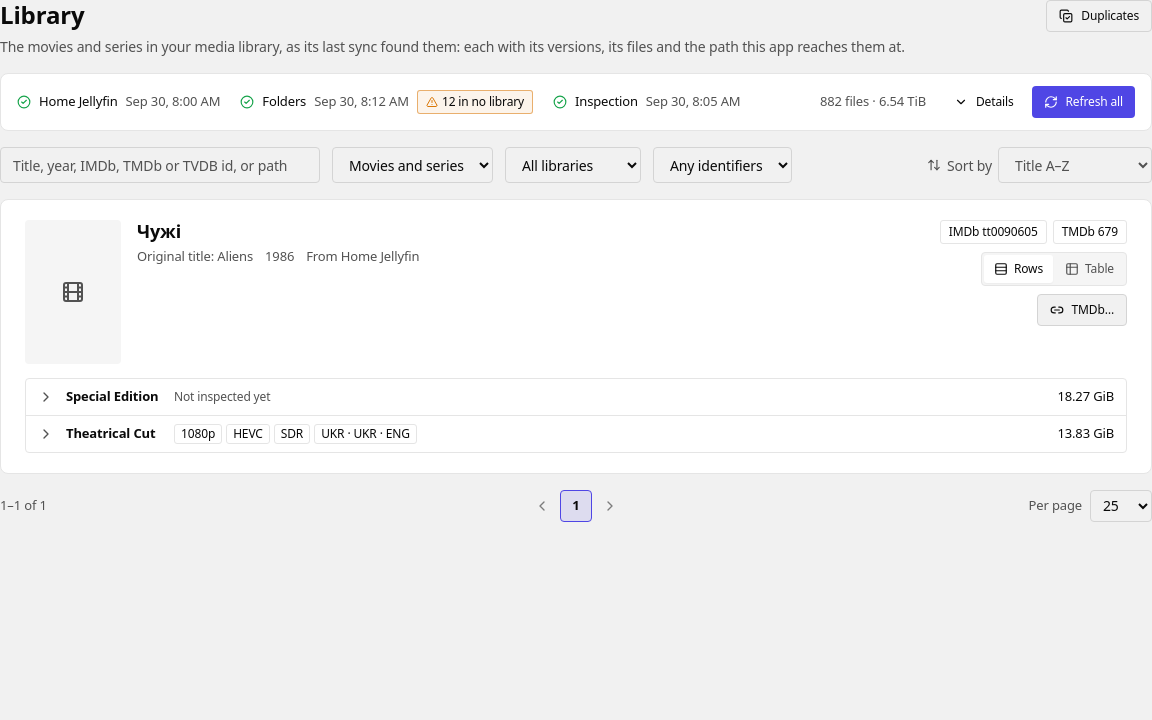
Test: LibraryPage while the files are inspected › asks for the works again when a run the owner started has finished by the next answer
The width and height of the screenshot is (1152, 720).
Click the button "Details". click: coordinates (984, 102)
box: [942,86,1026,118]
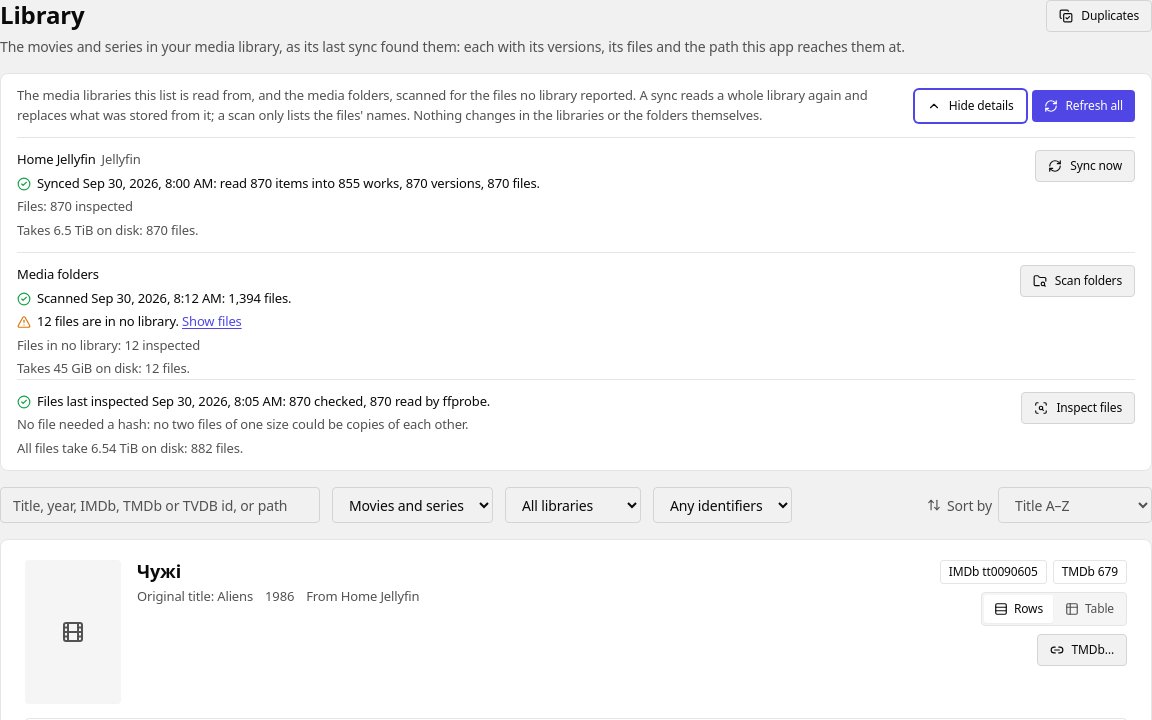
expect the heading "Чужі" is shown: met, box [137,559,181,583]
expect the text "Files last inspected " is shown: met, box [37,392,490,410]
Click the button "Inspect files". click: coordinates (1078, 408)
box: [1021,392,1135,424]
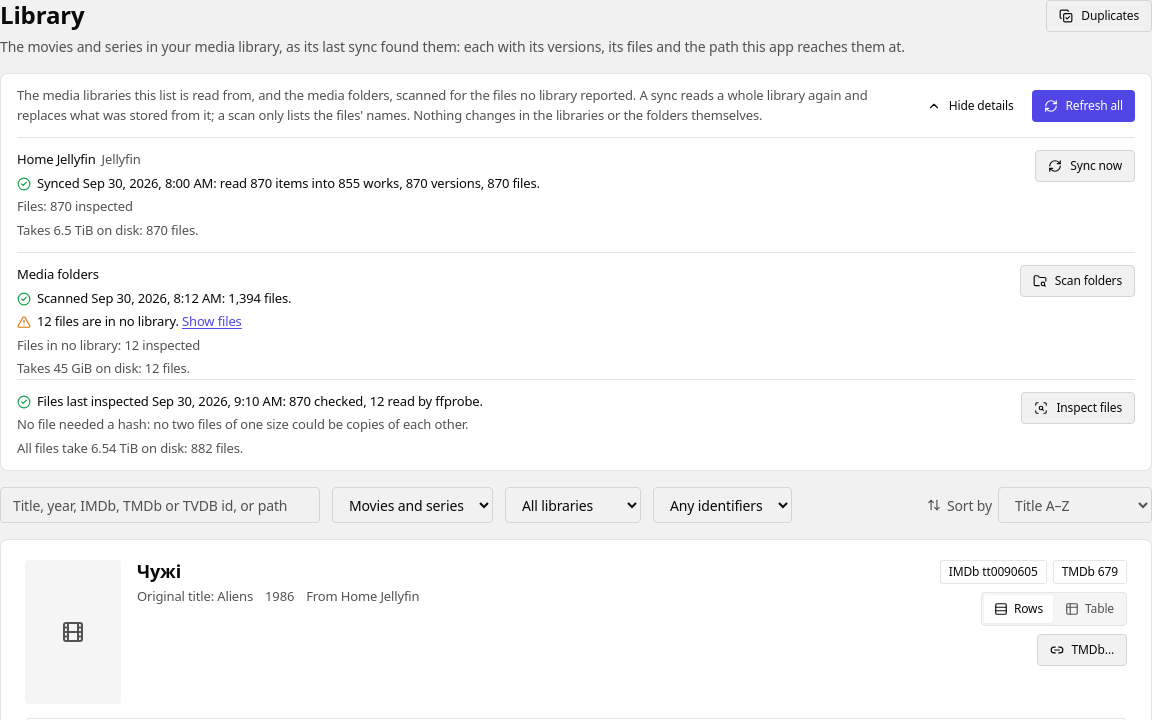
expect the text ": 870 checked, 12 read by ffprobe." is shown: met, box [37,392,483,410]
